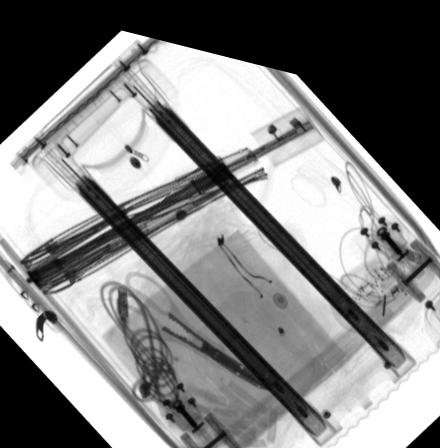Scissors: (108, 262, 273, 376)
